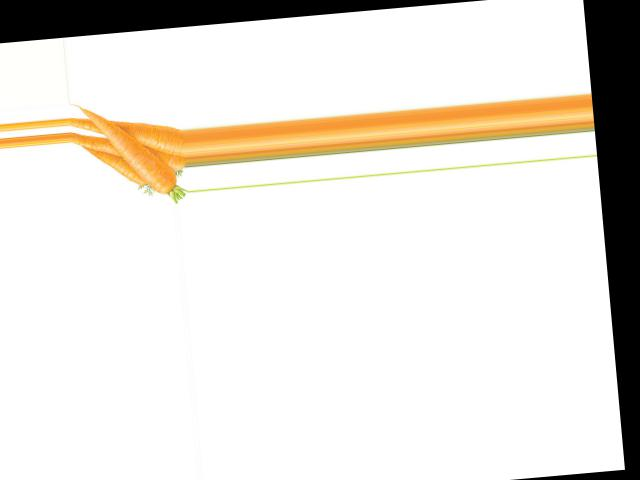carrot: (96, 121, 185, 162)
